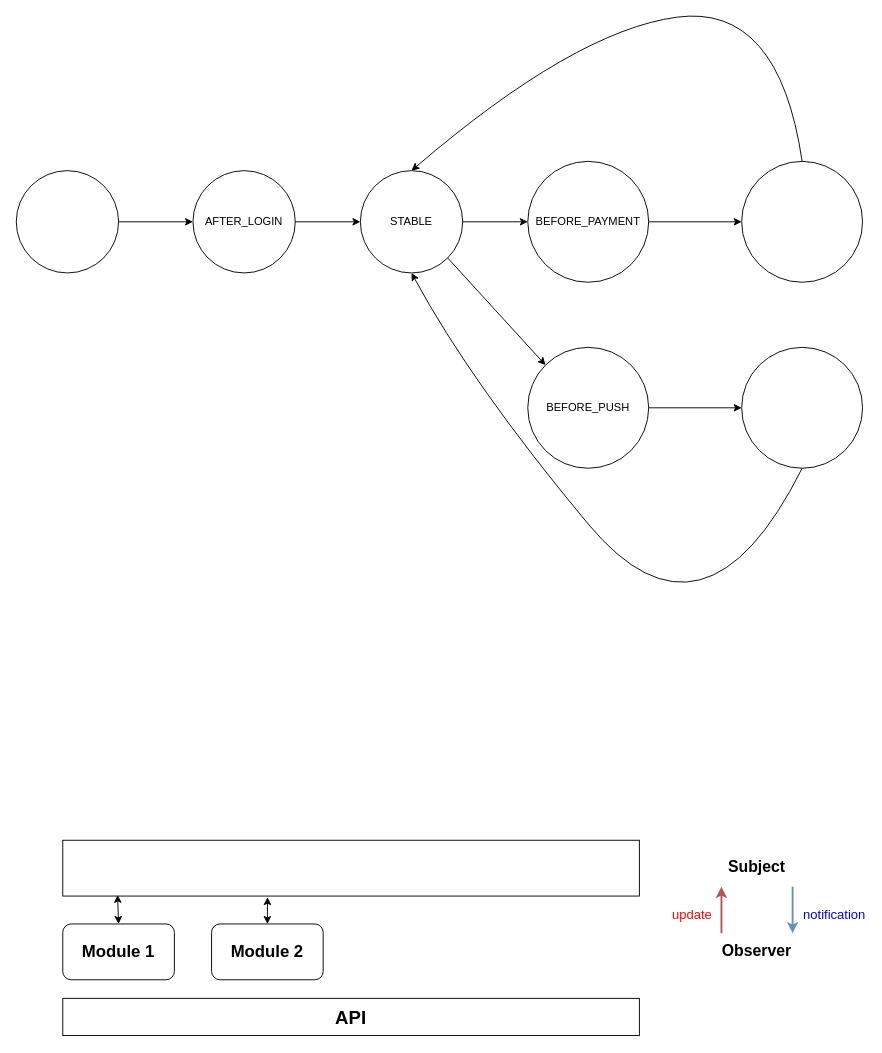
Some shapes in this 882 by 1053 pixel diagram are drawn without their labels. Here are the shapes that lost their labels. From the top down, the centre of each, then its label:
At pixel 67 221: "BEFORE_LOGIN".
At pixel 802 221: "PAYMENT_SUCCESS".
At pixel 802 407: "PUSH_SUCCESS".
At pixel 350 867: "FSM".
